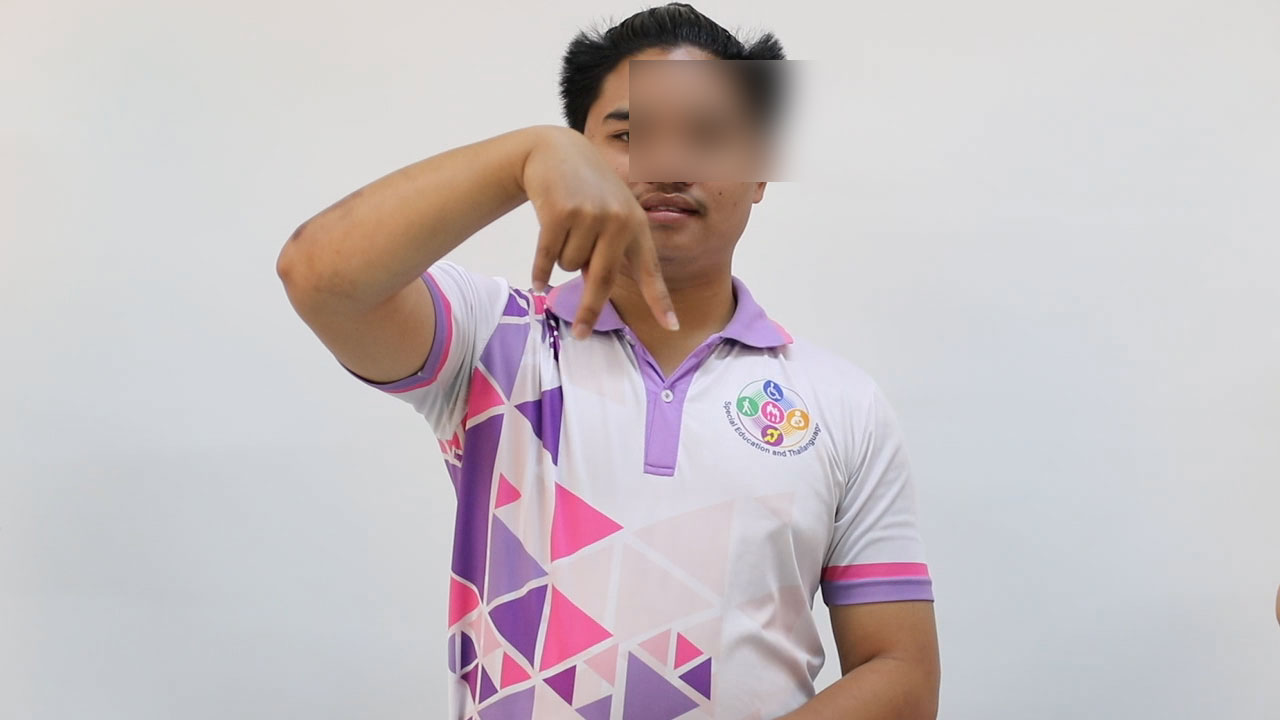por: (501, 113, 704, 344)
